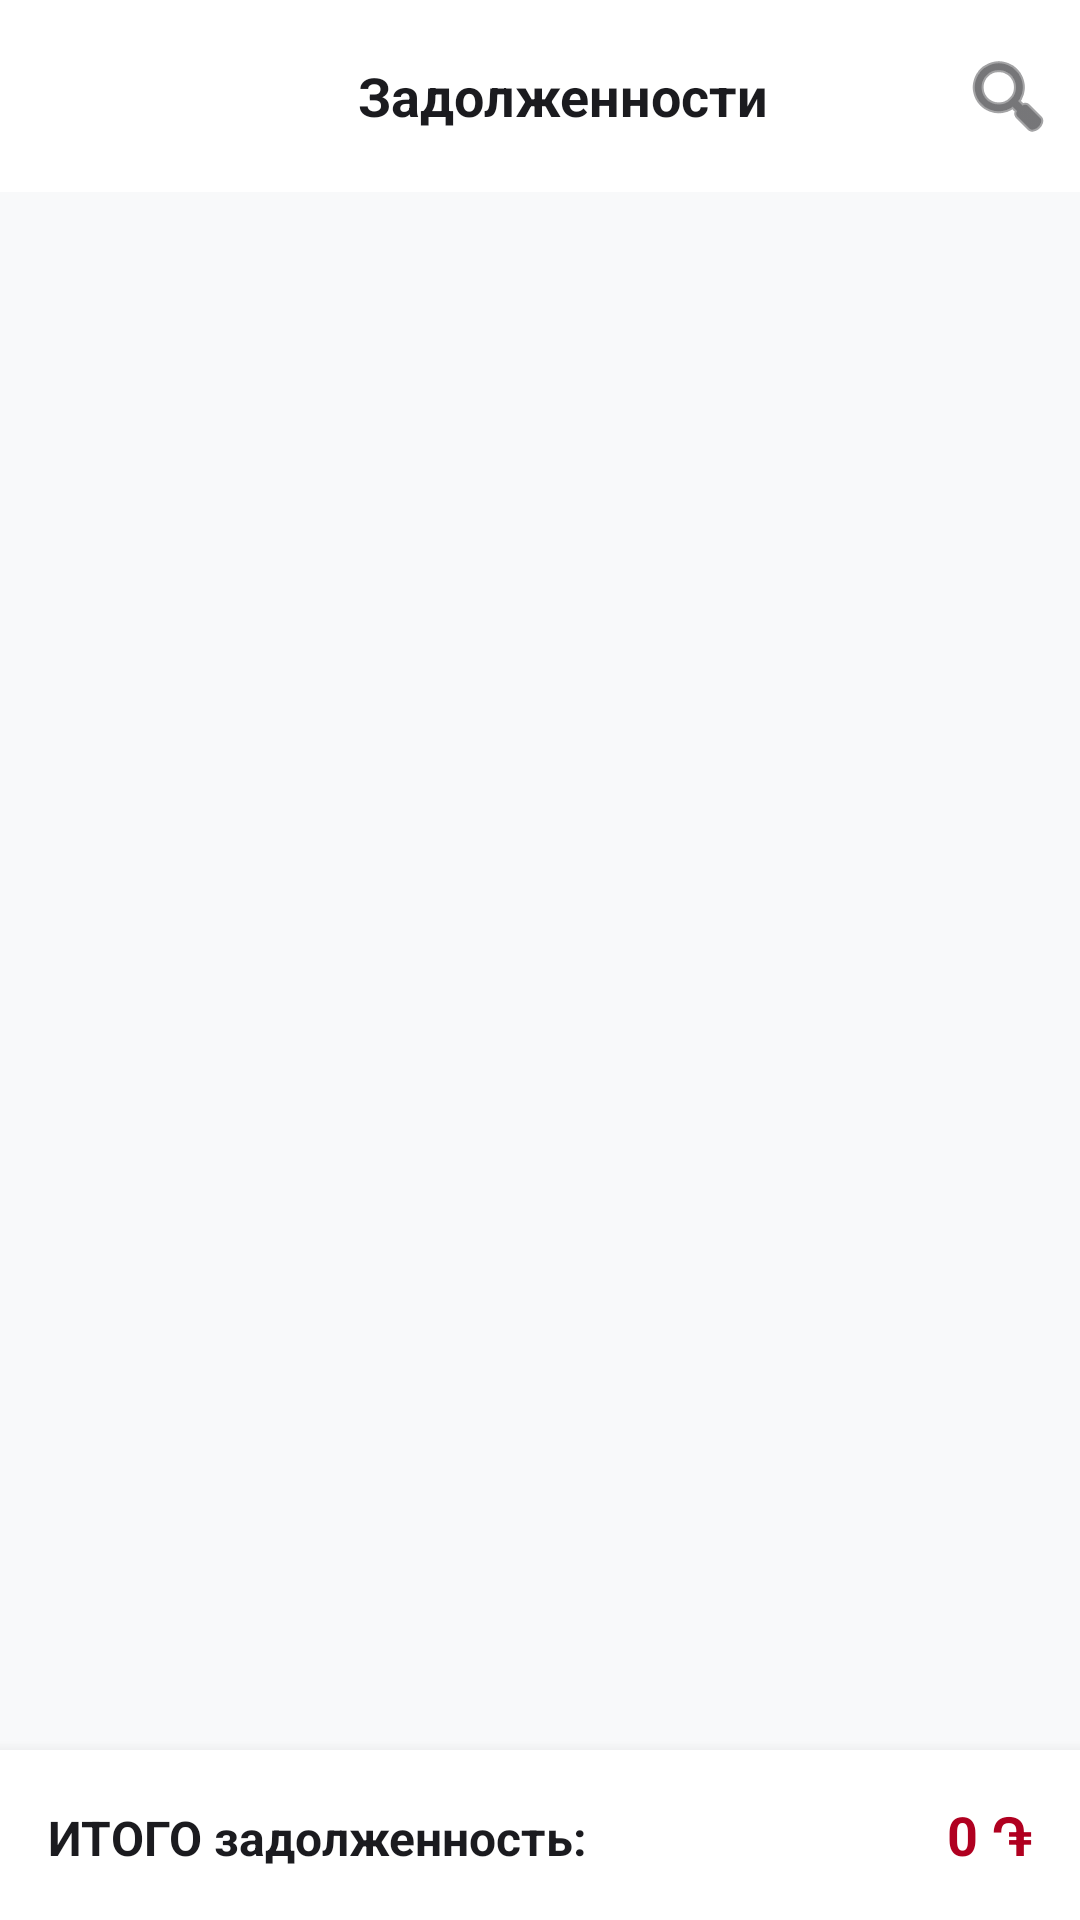

Screen size 1080w x 1920h. Icon name, then its box in pixels as (x1, y1, x2, y2):
search: (972, 61, 1044, 132)
